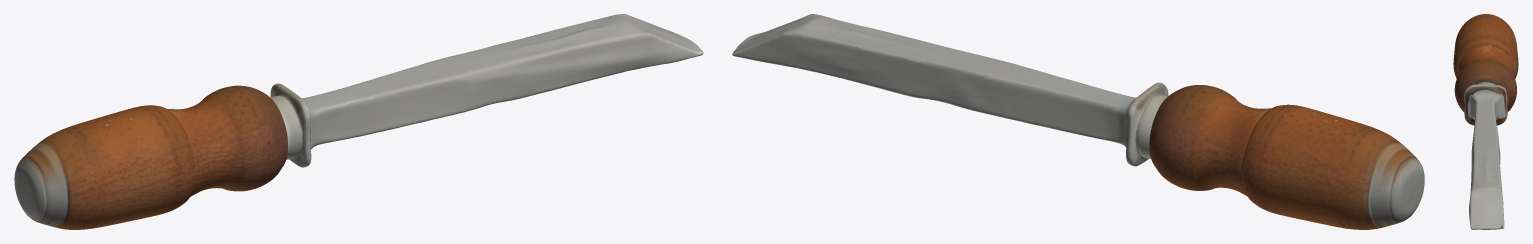
The picture shows the model from 3 angles, left to right: view 1: azimuth 30°, elevation 25°; view 2: azimuth 150°, elevation 25°; view 3: azimuth 270°, elevation 25°; orthographic projection. The views are drawn at different scales.
Parts seen in each view (by area): view 1: tripo_node_8b016149-c120-411c-9794-fc5c4554c5b2; view 2: tripo_node_8b016149-c120-411c-9794-fc5c4554c5b2; view 3: tripo_node_8b016149-c120-411c-9794-fc5c4554c5b2.
Boxes of the visible parts, <box> form: tripo_node_8b016149-c120-411c-9794-fc5c4554c5b2: <box>14,14,703,229</box>; tripo_node_8b016149-c120-411c-9794-fc5c4554c5b2: <box>732,14,1424,229</box>; tripo_node_8b016149-c120-411c-9794-fc5c4554c5b2: <box>1453,14,1518,229</box>.
Bounding box in the file's own units: 1 × 0.143 × 0.1441.
Materials: 1 (1 with a texture image).
